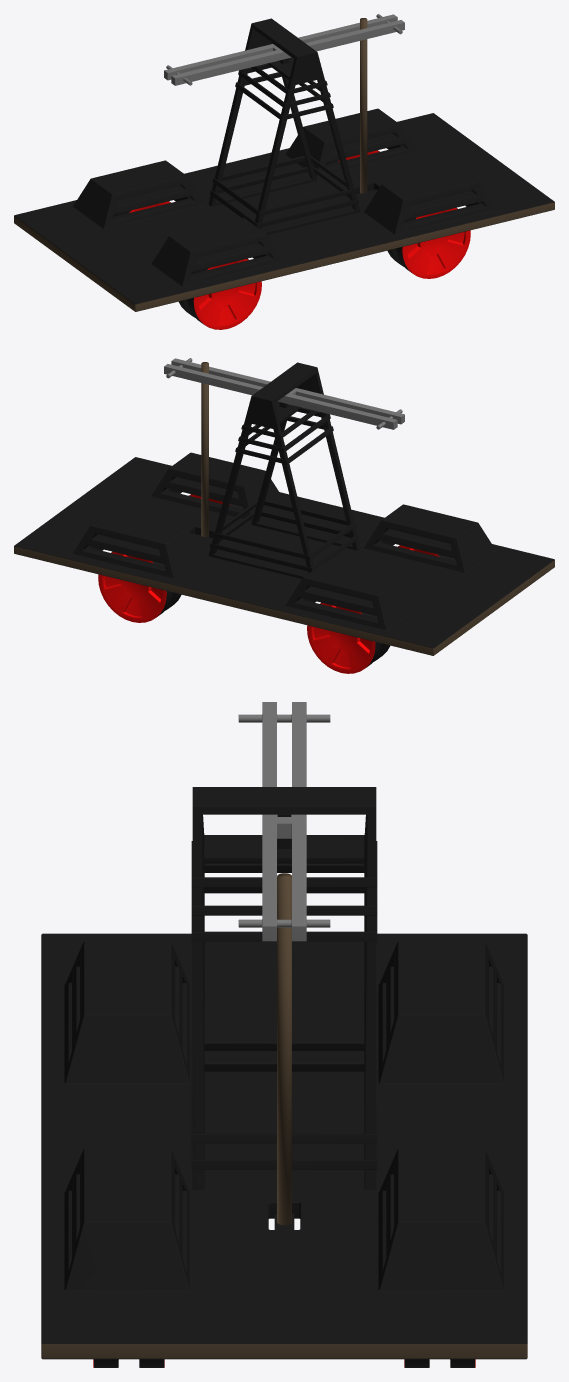
File: dreadlocker.fbx
The picture shows the model from 3 angles, top to bottom: view 1: azimuth 30°, elevation 25°; view 2: azimuth 150°, elevation 25°; view 3: azimuth 270°, elevation 25°; orthographic projection. The views are drawn at different scales.
Parts seen in each view (by area): view 1: Platform, mechanism, Wheel, Wheel.001; view 2: Platform, mechanism, Wheel.003, Wheel.002; view 3: Platform, mechanism.
Boxes of the visible parts, x1=… form: Platform: x1=14, y1=18, x2=554, y2=311; mechanism: x1=164, y1=14, x2=404, y2=85; Wheel: x1=179, y1=258, x2=261, y2=329; Wheel.001: x1=387, y1=207, x2=470, y2=278; Platform: x1=14, y1=362, x2=554, y2=655; mechanism: x1=164, y1=358, x2=404, y2=429; Wheel.003: x1=98, y1=551, x2=181, y2=622; Wheel.002: x1=307, y1=602, x2=389, y2=673; Platform: x1=41, y1=787, x2=527, y2=1359; mechanism: x1=238, y1=702, x2=330, y2=941.
Bounding box in the file's own units: 399 × 210 × 200.
1 material, 1 textured.
